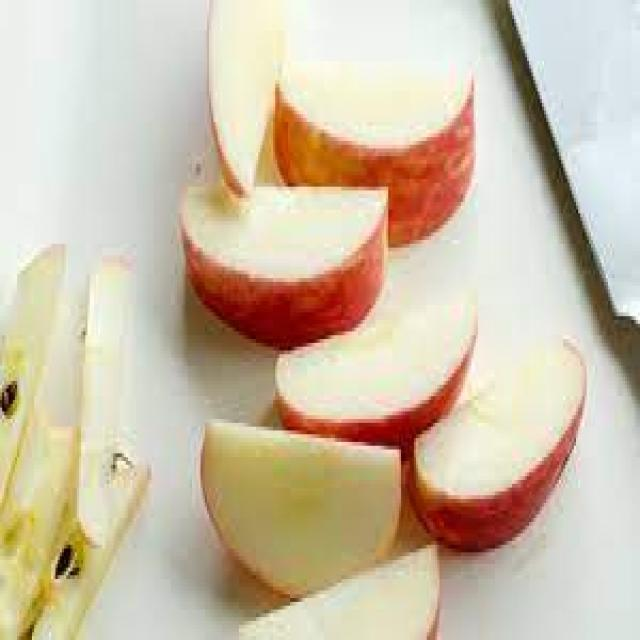Apple: (195, 419, 401, 583), (414, 354, 590, 545), (274, 70, 474, 237), (183, 185, 389, 334), (277, 293, 482, 442), (7, 421, 143, 640), (233, 537, 443, 640), (77, 239, 133, 552), (1, 242, 61, 530), (203, 0, 281, 194)
